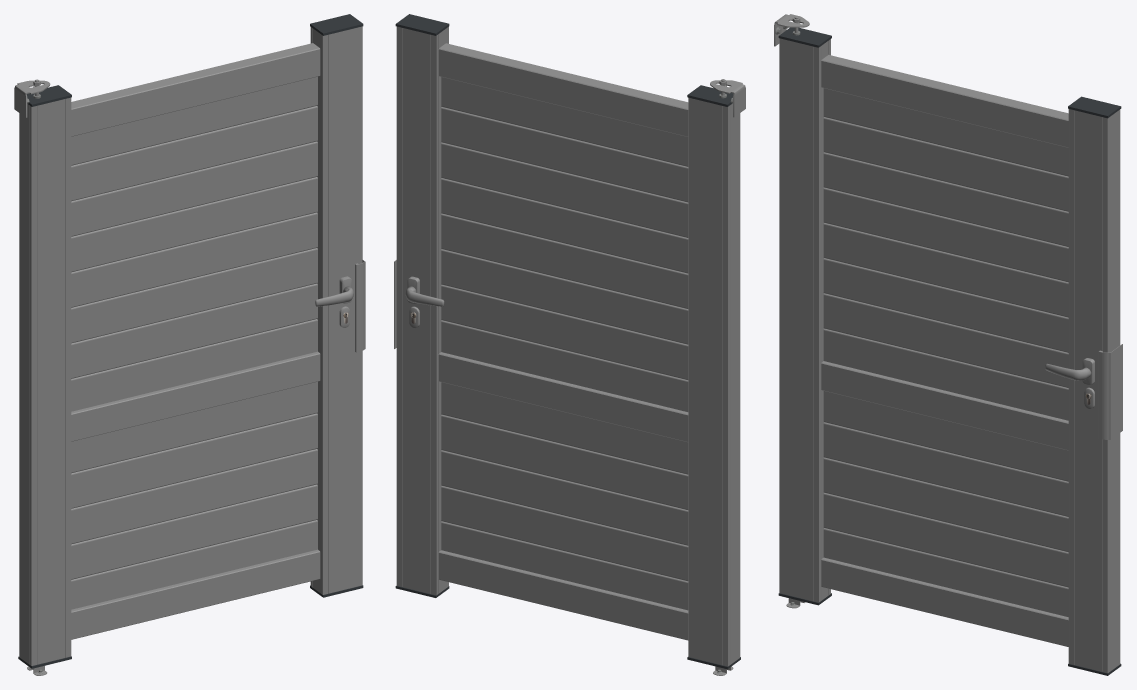
The picture shows the model from 3 angles, left to right: view 1: azimuth 30°, elevation 25°; view 2: azimuth 150°, elevation 25°; view 3: azimuth 330°, elevation 25°; orthographic projection.
Visible parts, largest first — view 1: Shape107412643, Shape107412644, Shape049, Shape043, Shape052, Shape050, Shape053, Shape051, Shape045, Shape044, Shape048, Shape042 (+10 smaller); view 2: Shape107412643, Shape107412644, Shape053, Shape043, Shape051, Shape049, Shape044, Shape052, Shape045, Shape050, Shape048, Shape042 (+9 smaller); view 3: Shape107412644, Shape107412643, Shape053, Shape050, Shape052, Shape051, Shape049, Shape043, Shape045, Shape044, Shape042, Shape048 (+9 smaller).
Part boxes in pixels (x1,y1,x2,y2): Shape107412643: [19, 97, 71, 665]; Shape107412644: [310, 26, 362, 594]; Shape049: [71, 248, 317, 343]; Shape043: [71, 484, 317, 579]; Shape052: [71, 141, 317, 236]; Shape050: [71, 212, 317, 307]; Shape053: [71, 106, 317, 201]; Shape051: [71, 177, 317, 272]; Shape045: [71, 413, 317, 508]; Shape044: [71, 449, 317, 544]; Shape048: [71, 283, 317, 378]; Shape042: [71, 43, 320, 136]; Shape107412643: [688, 97, 740, 666]; Shape107412644: [396, 26, 448, 595]; Shape053: [441, 107, 688, 202]; Shape043: [441, 486, 688, 581]; Shape051: [441, 178, 688, 273]; Shape049: [441, 249, 688, 344]; Shape044: [441, 450, 688, 545]; Shape052: [441, 142, 688, 237]; Shape045: [441, 415, 688, 510]; Shape050: [441, 213, 688, 308]; Shape048: [441, 285, 688, 380]; Shape042: [438, 43, 688, 136]; Shape107412644: [1068, 109, 1120, 672]; Shape107412643: [779, 38, 830, 602]; Shape053: [823, 117, 1068, 211]; Shape050: [823, 223, 1068, 317]; Shape052: [823, 152, 1068, 246]; Shape051: [823, 187, 1068, 282]; Shape049: [823, 258, 1068, 352]; Shape043: [823, 493, 1068, 587]; Shape045: [823, 422, 1068, 516]; Shape044: [823, 457, 1068, 552]; Shape042: [821, 55, 1068, 147]; Shape048: [823, 293, 1068, 387].
Size of the model in its own units: 1014 by 1688 by 171.
8 materials, 4 textured.
